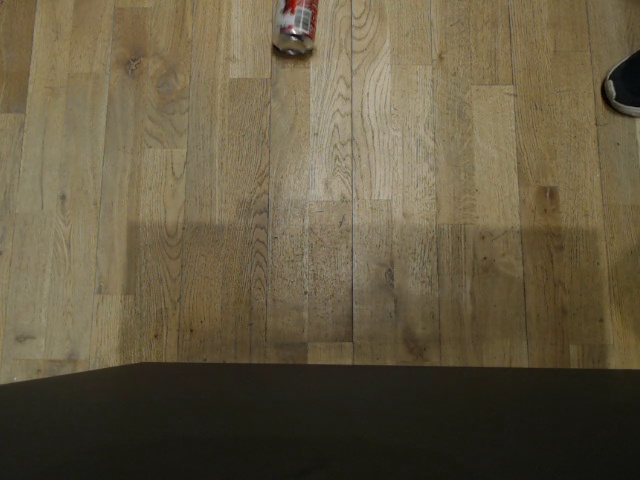cola: (268, 0, 318, 60)
